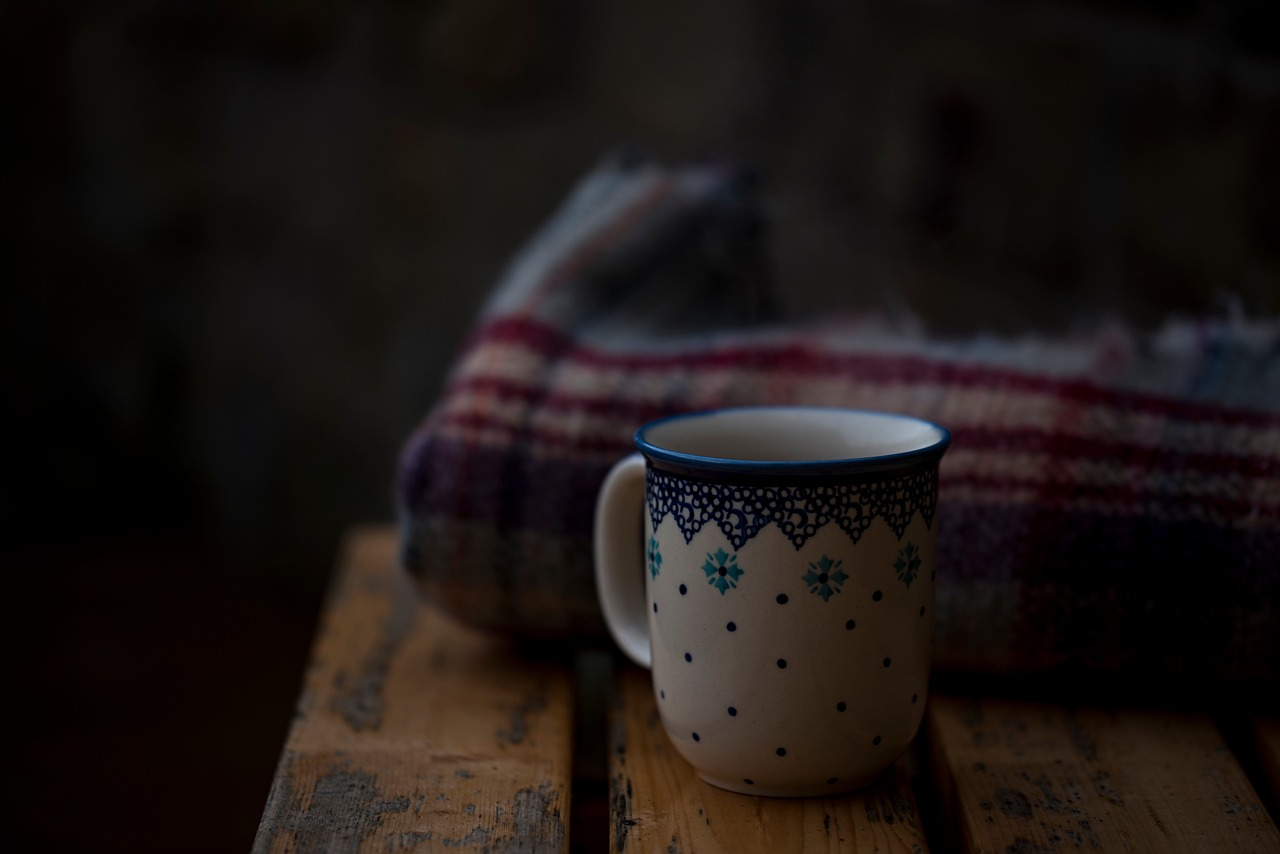mug: (551, 398, 981, 826)
